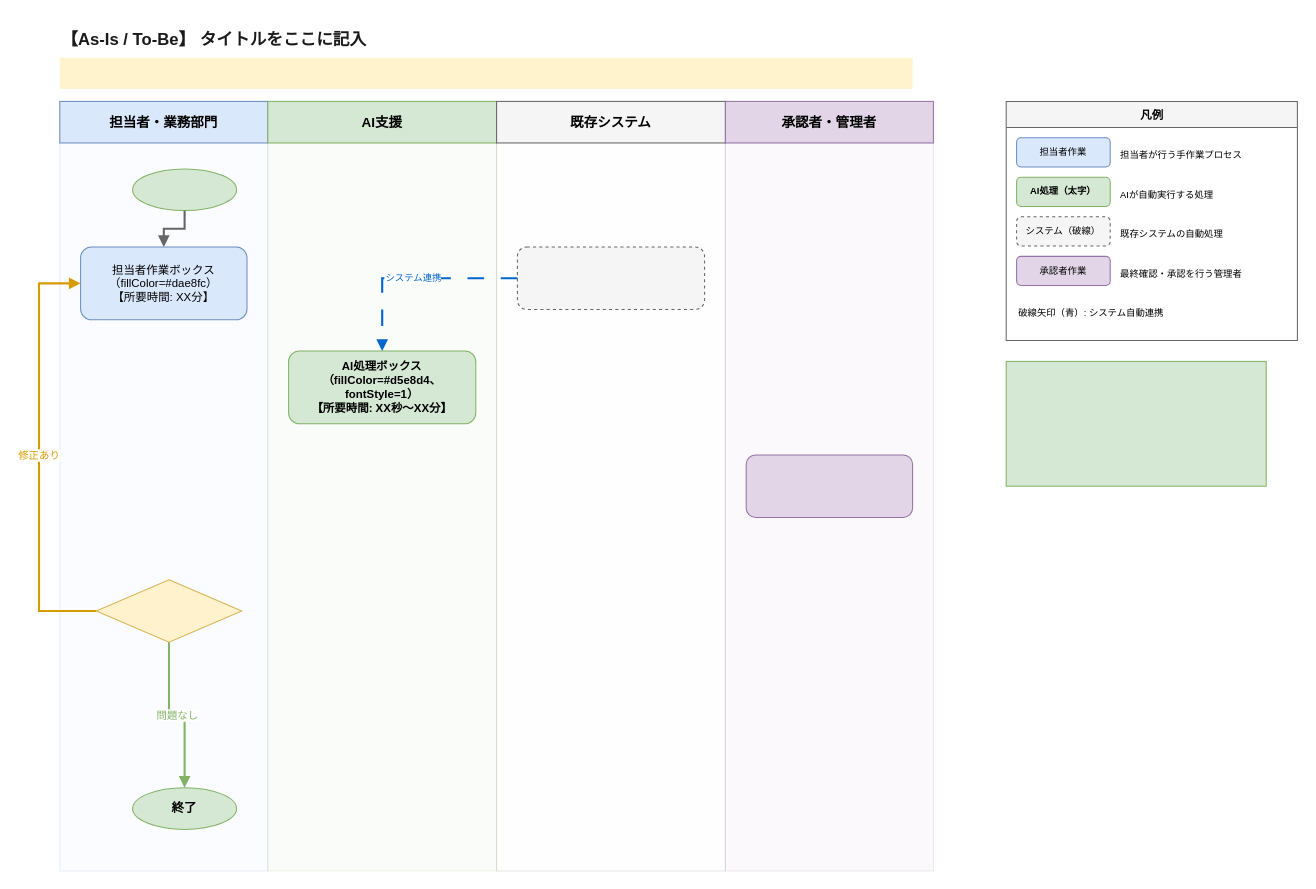
This 1316x889 diagram has some shape labels left out. The shapes that lost their labels are listed below. From the top down, each one's centre as x and y in pixels, then its label:
At point 485,72: "課題・効果の概要をここに記入".
At point 184,189: "開始".
At point 610,277: "システム自動処理ボックス （fillColor=#f5f5f5、dashed=1）".
At point 1135,423: "【AI導入効果 / 課題メモ】 ・ここに効果・課題を記入 ・作業時間: XX → XX ・品質改善点: ...".
At point 829,485: "承認者作業ボックス （fillColor=#e1d5e7）".
At point 168,610: "判断・分岐 （rhombus）".
